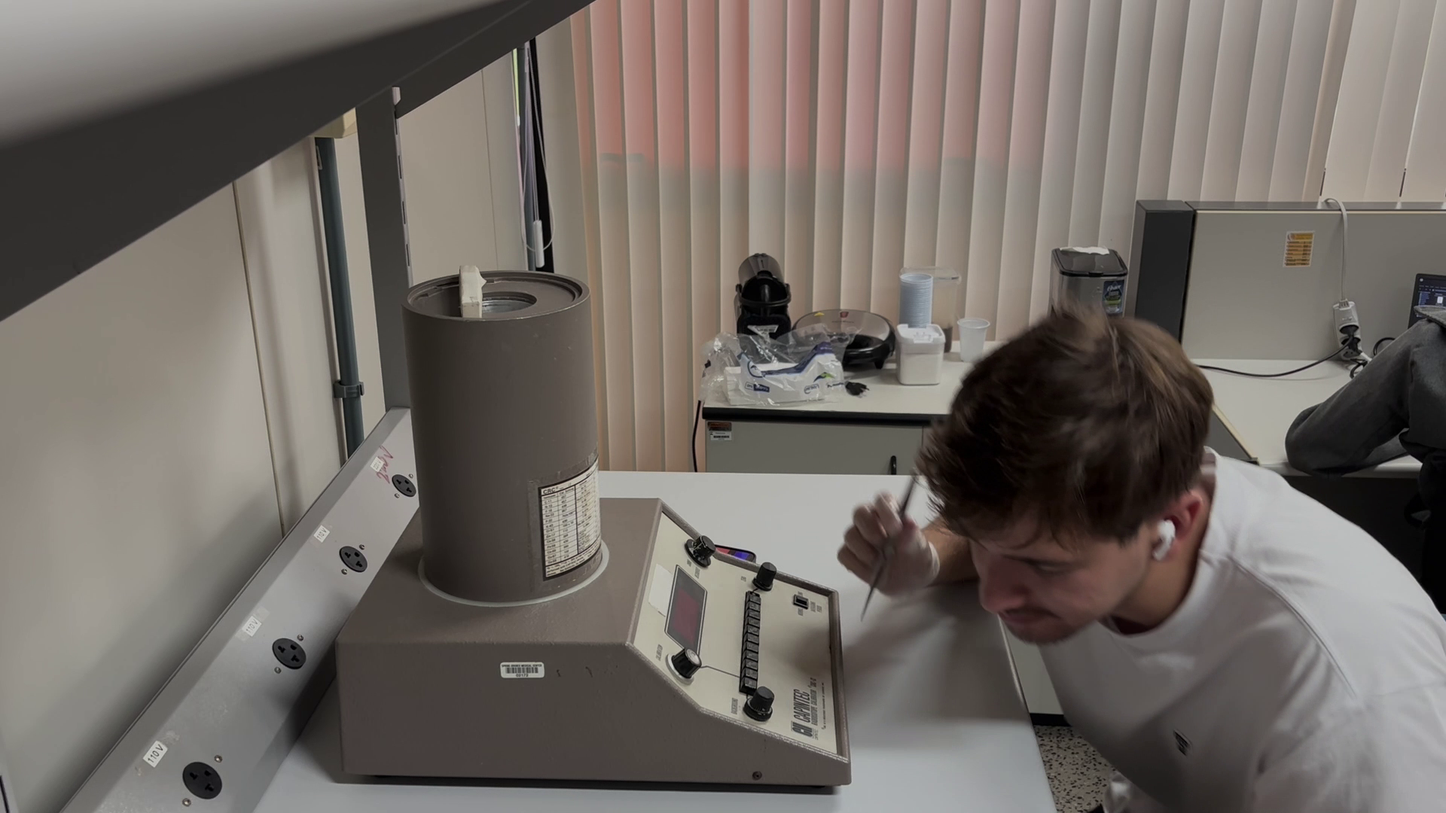Ativimetro: (398, 267, 609, 606)
Com_Luva: (837, 489, 941, 602)
